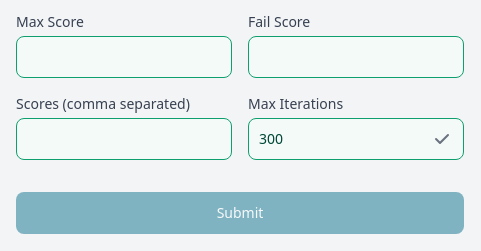
KMeansFormAndResult › Input fields interactions › enables submit button when all fields are valid
This screenshot has width=481, height=251.
Type "111" into the field labelled "Max Score" at (124, 57), box [16, 36, 232, 78]
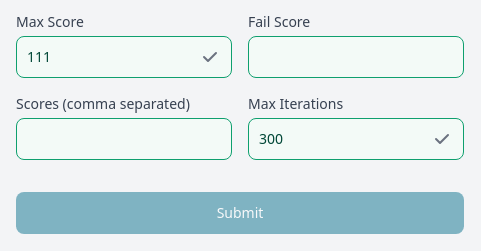
Type "22" into the field labelled "Fail Score" at (356, 57), box [248, 36, 464, 78]
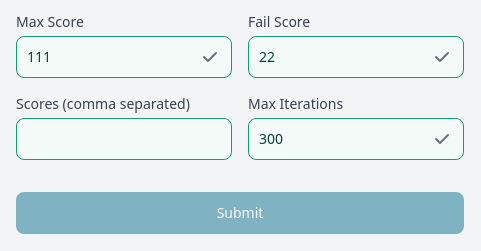
Type "11,22,33,44,55,66" into the field labelled "Scores (comma separated)" at (124, 139), box [16, 118, 232, 160]
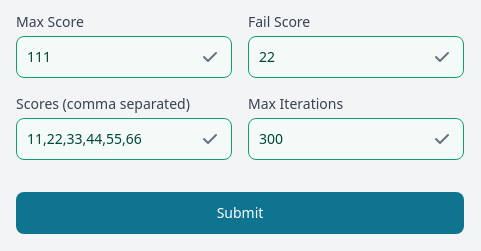
Result: the button is enabled at [16, 192, 464, 234]
